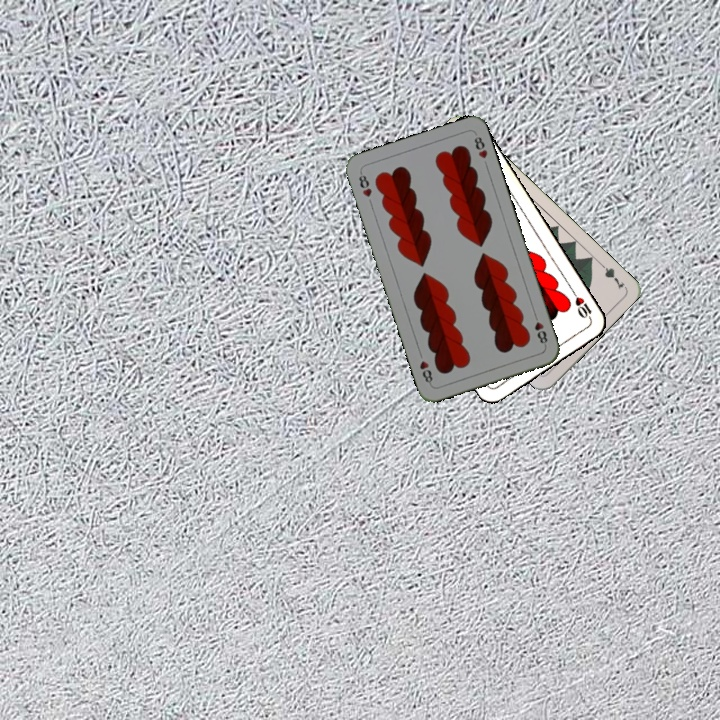G7: (594, 258, 627, 292)
H10: (568, 287, 595, 323)
H8: (530, 309, 550, 349), (355, 168, 374, 200)
